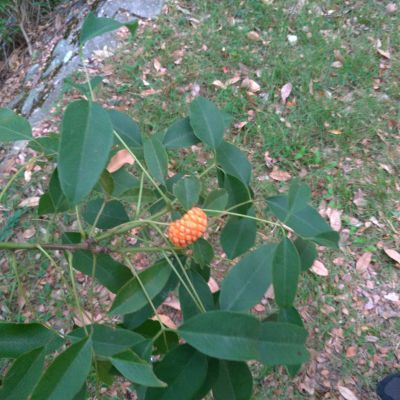eggs: (163, 206, 213, 250)
